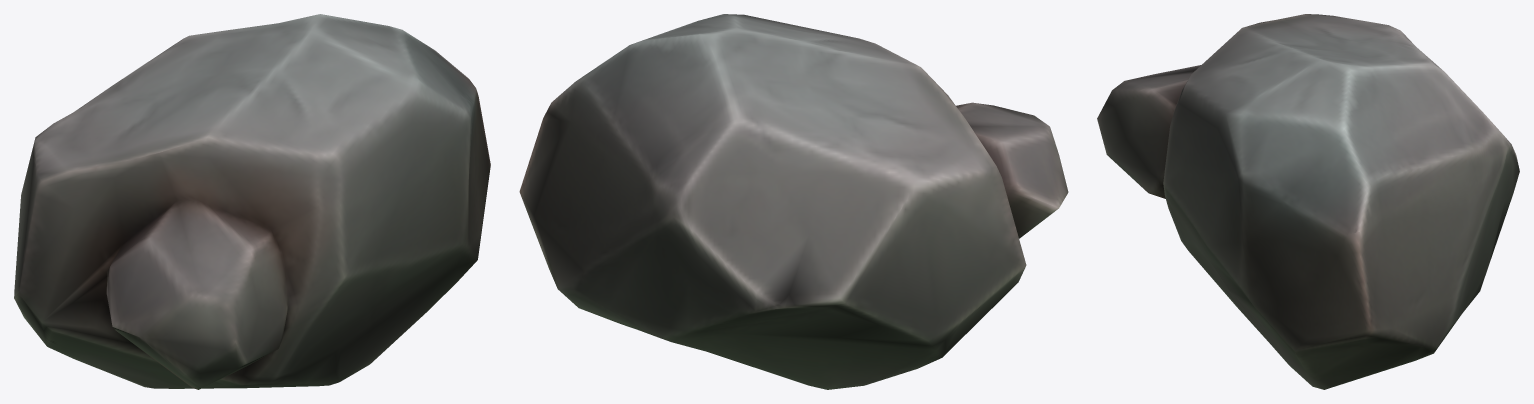
File: o3_roccia_02.glb
3 views of the same model, side by side, from view 1: azimuth 30°, elevation 25°; view 2: azimuth 150°, elevation 25°; view 3: azimuth 270°, elevation 25° (orthographic). The views are drawn at different scales.
Parts seen in each view (by area): view 1: sb_modello; view 2: sb_modello; view 3: sb_modello.
Part boxes in pixels (x1,y1,x2,y2): sb_modello: (14,14,490,389); sb_modello: (519,14,1068,389); sb_modello: (1097,14,1519,389).
Bounding box in the file's own units: 1.81 × 1.18 × 1.47.
1 material, 1 textured.
